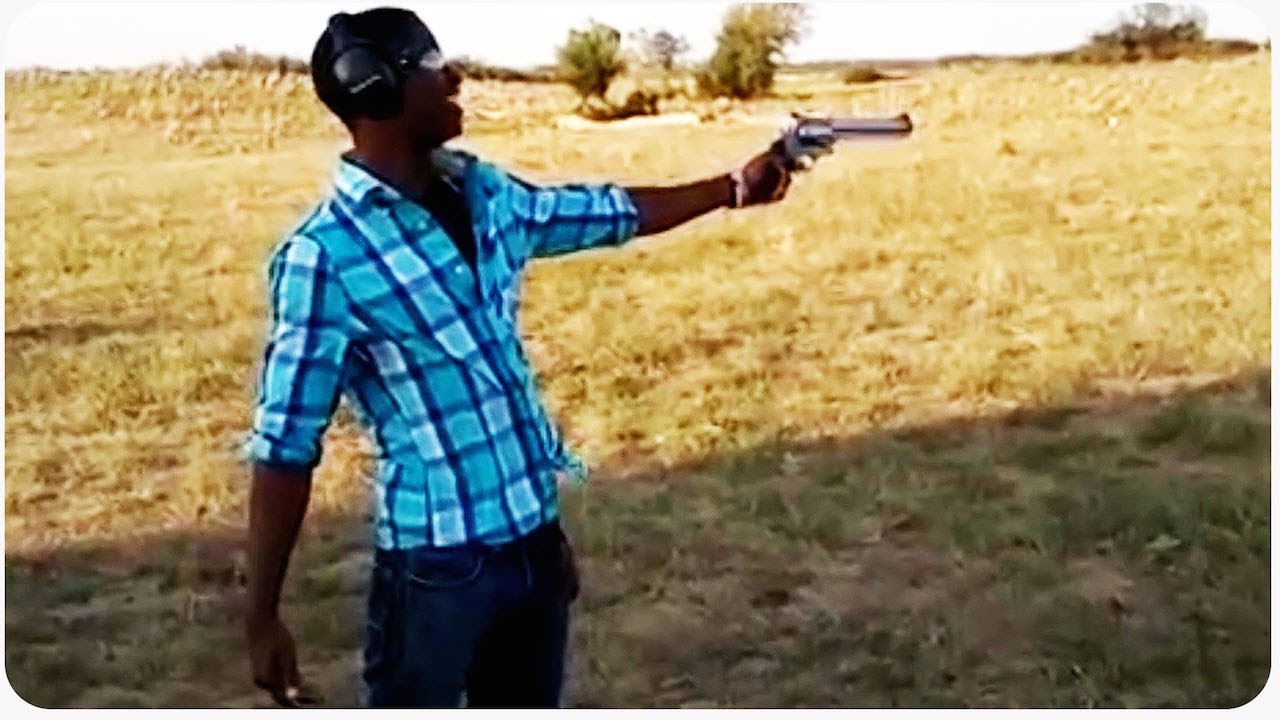Gun: (743, 101, 914, 161)
